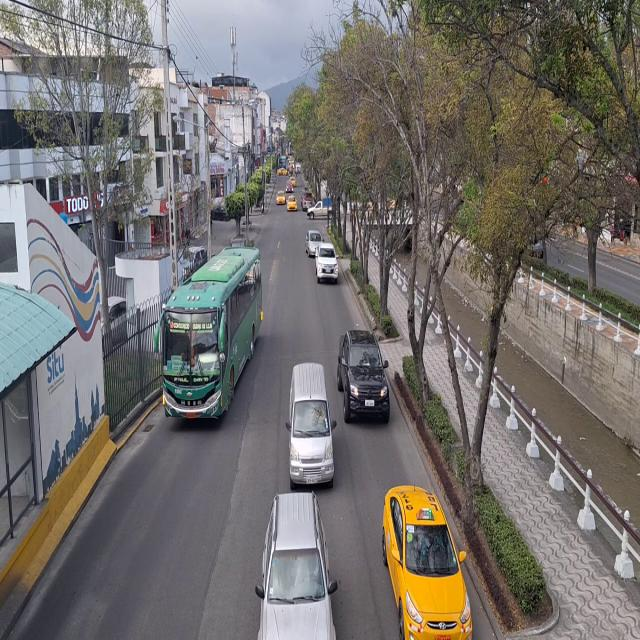BUS: (161, 252, 262, 428)
